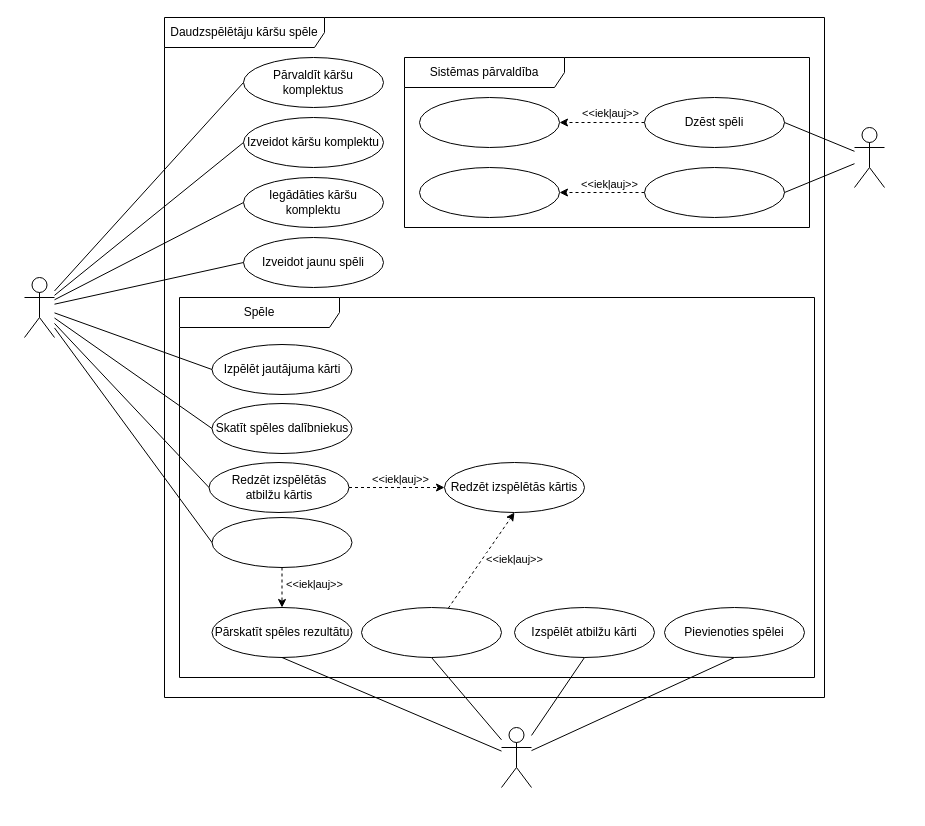
Some shapes in this 925 by 826 pixel diagram are drawn without their labels. The shapes that lost their labels are listed below. From the top down, each one's centre as x and y in pixels, then its label:
At [489,122]: "Skatīt visas spēles".
At [869,157]: "Administrators".
At [489,192]: "Skatīt visus lietotājus".
At [714,192]: "Dzēst lietotāju".
At [39,307]: "Lietotājs".
At [281,542]: "Pārskatīt visu savu spēļu rezultātus".
At [431,632]: "Redzēt izspēlēto jautājuma kārti".
At [516,757]: "Spēlētājs".
